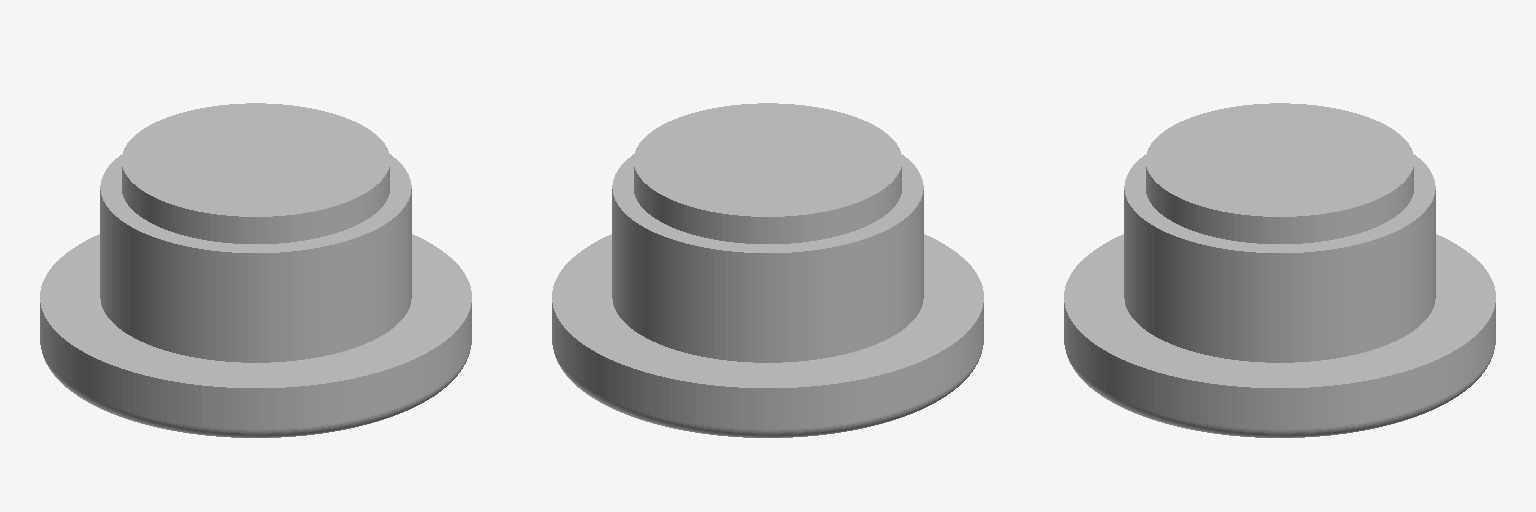
File: V5_SM1 Removal Tool.obj
3 views of the same model, side by side, from view 1: azimuth 30°, elevation 25°; view 2: azimuth 150°, elevation 25°; view 3: azimuth 270°, elevation 25° (orthographic).
Parts seen in each view (by area): view 1: Solid1:12; view 2: Solid1:12; view 3: Solid1:12.
Boxes of the visible parts, x1,y1,x2,y2 form: Solid1:12: [40, 103, 471, 437]; Solid1:12: [552, 103, 983, 437]; Solid1:12: [1064, 103, 1495, 437].
Bounding box in the file's own units: 35.75 × 17.5 × 35.74.